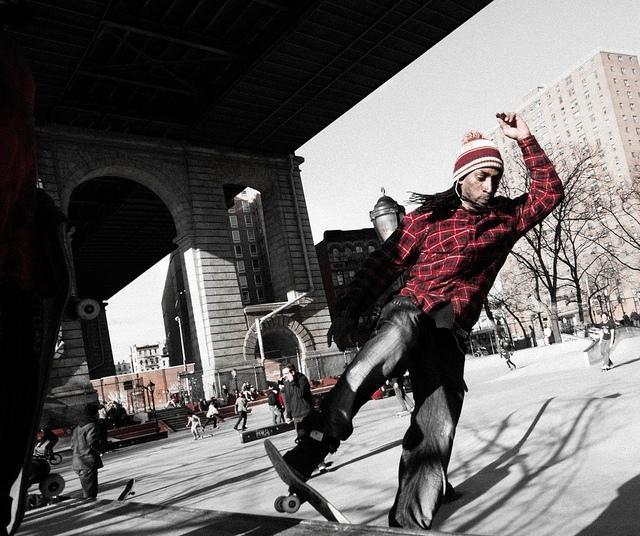bicycle: (33, 446, 62, 466)
